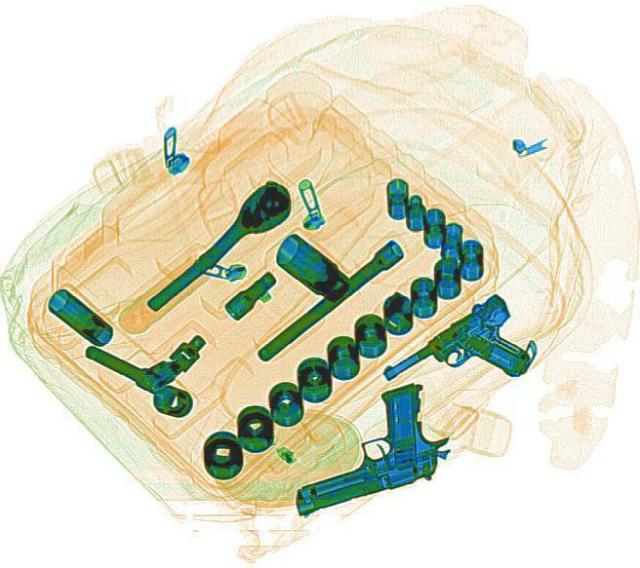Gun: (255, 378, 460, 517), (372, 288, 556, 427)
